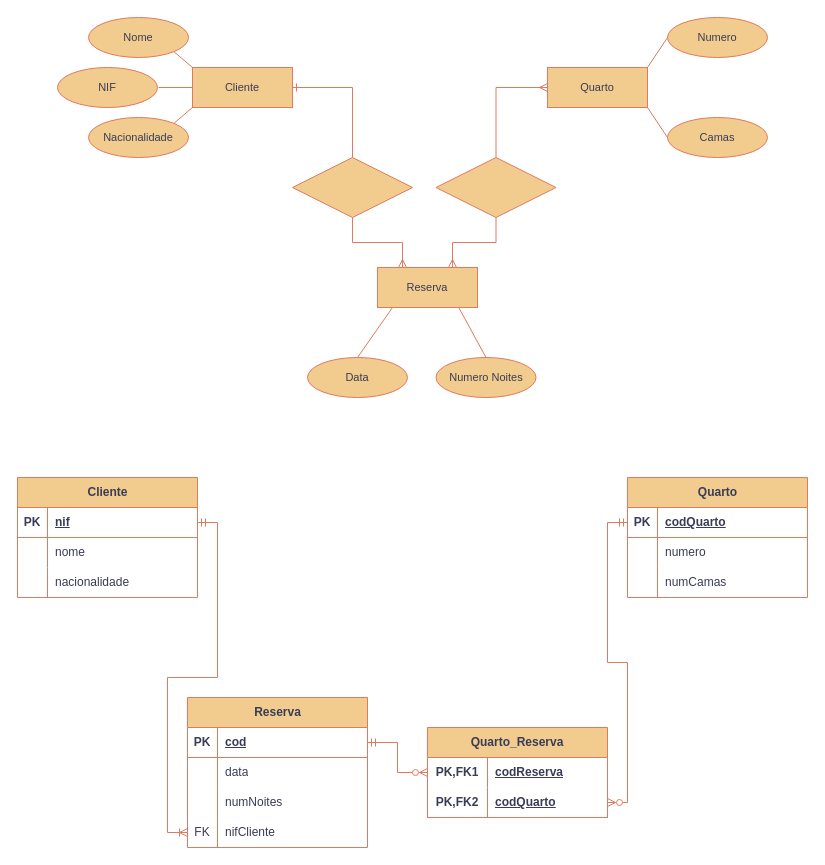
The diagram is 825 pixels wide and 865 high, and some of its shapes have lost their labels. The centre of each missing label's shape, as x and y in pixels:
Faz: the point at 352,187
Tem: the point at 495,187
